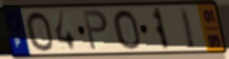1: (151, 6, 172, 52)
4: (56, 9, 79, 52)
I: (178, 7, 198, 51)
O: (111, 9, 143, 51), (24, 11, 55, 53)
P: (81, 8, 110, 52)
